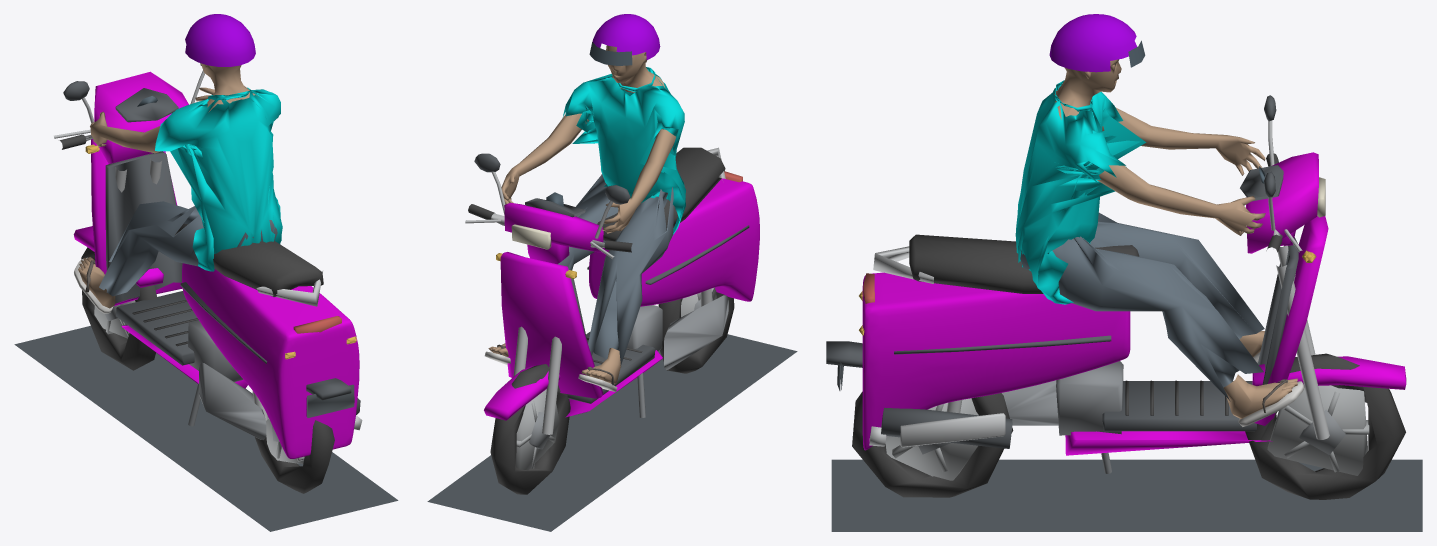
File: motor.glb
3 renders of one model, left to right at view 1: azimuth 30°, elevation 25°; view 2: azimuth 150°, elevation 25°; view 3: azimuth 270°, elevation 25°, orthographic. The views are drawn at different scales.
Visible parts, largest first — view 1: main; view 2: main; view 3: main.
Part boxes in pixels (x1,y1,x2,y2): main: (14, 14, 398, 531); main: (427, 14, 797, 531); main: (826, 14, 1422, 531).
Bounding box in the file's own units: 0.7253 × 1.71 × 1.92.
